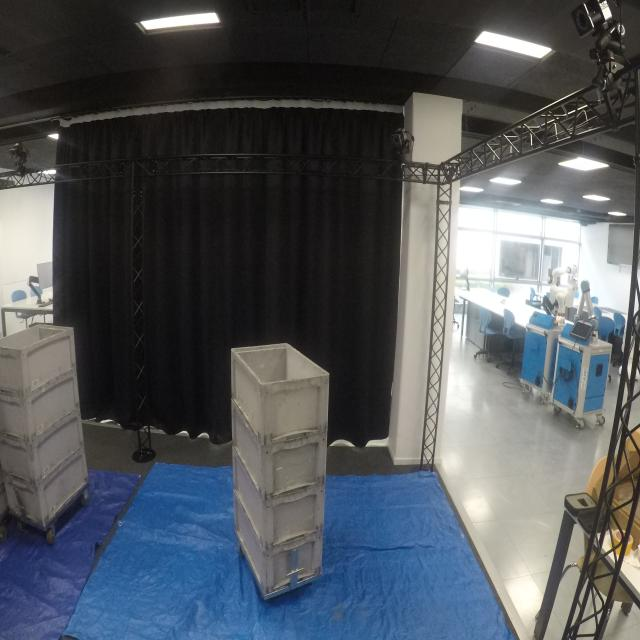Box4G: (228, 342, 331, 446), (230, 395, 332, 500), (232, 445, 326, 551), (233, 487, 323, 594), (1, 444, 90, 530), (0, 403, 86, 490), (0, 322, 81, 400), (0, 369, 85, 442)
